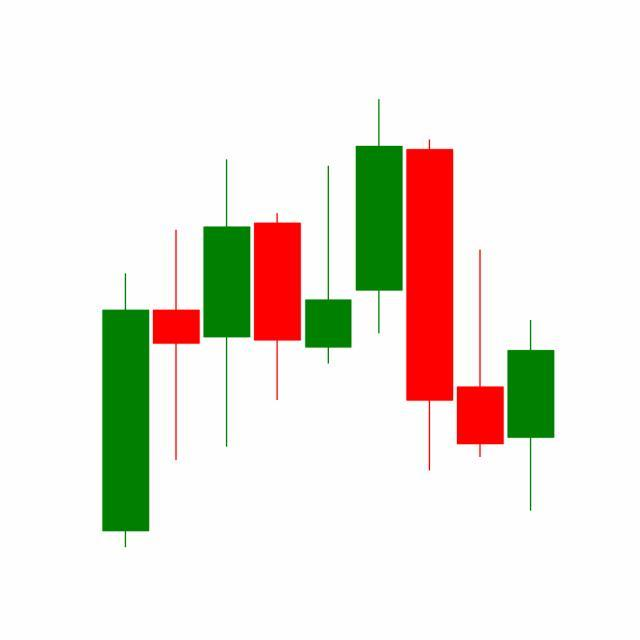Hikkake Pattern: (252, 99, 506, 476)
